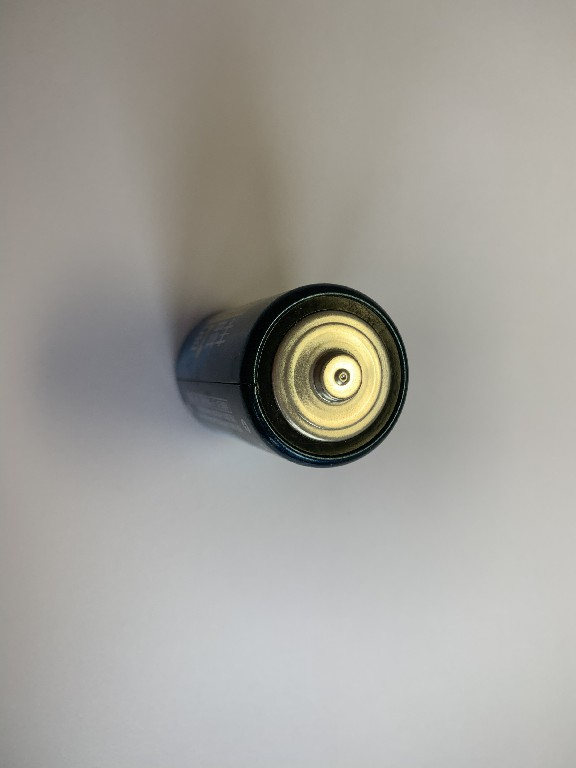charge: (171, 278, 414, 472)
